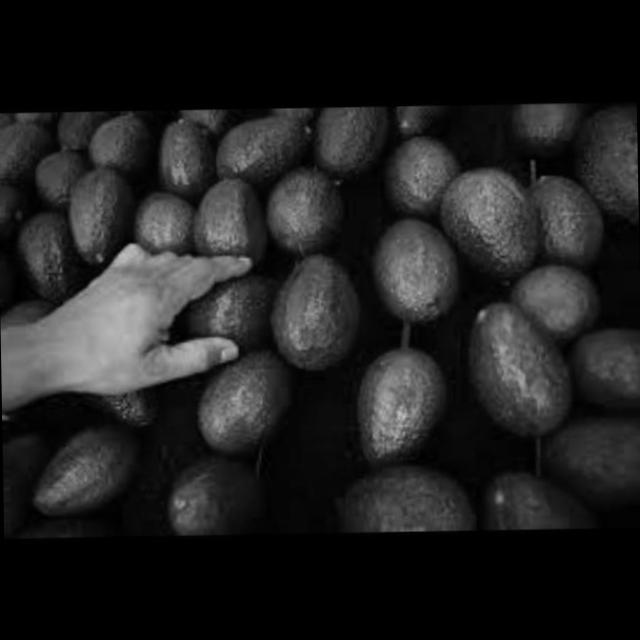bo: (338, 316, 451, 464), (456, 294, 565, 438), (2, 414, 146, 516), (256, 245, 366, 363), (542, 398, 640, 527), (130, 446, 272, 535), (196, 343, 312, 448), (356, 220, 467, 316), (445, 166, 539, 278), (566, 100, 638, 233), (466, 460, 604, 529), (560, 308, 640, 426), (378, 127, 470, 223), (328, 466, 458, 532), (54, 164, 132, 274), (516, 158, 602, 250), (302, 104, 394, 186), (190, 166, 260, 268), (512, 258, 608, 332), (208, 111, 308, 182), (270, 150, 350, 237), (128, 168, 200, 255), (144, 117, 206, 195), (0, 111, 51, 183), (72, 109, 140, 160), (502, 102, 584, 144)
